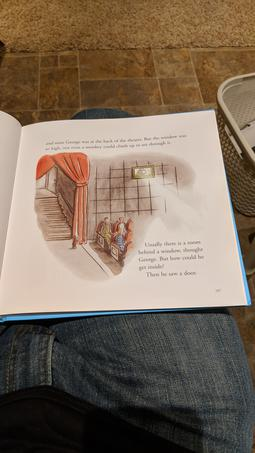text block: (40, 125, 196, 154), (132, 237, 210, 281)
